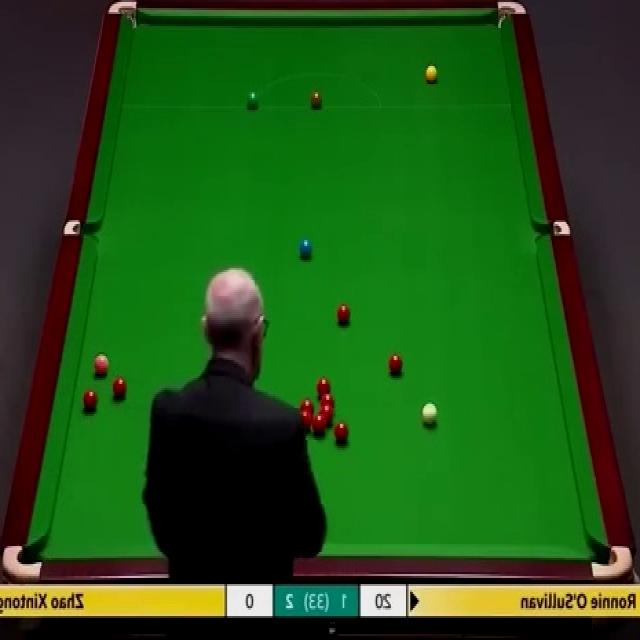pocket: (4, 541, 43, 577), (594, 543, 634, 577), (496, 0, 528, 31), (109, 1, 138, 32), (534, 218, 572, 238), (63, 218, 100, 237)
